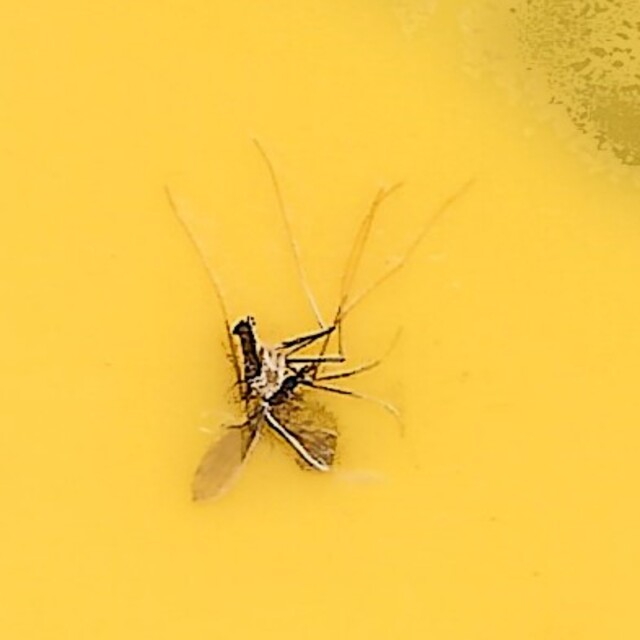Nematocera: (163, 137, 477, 503)
